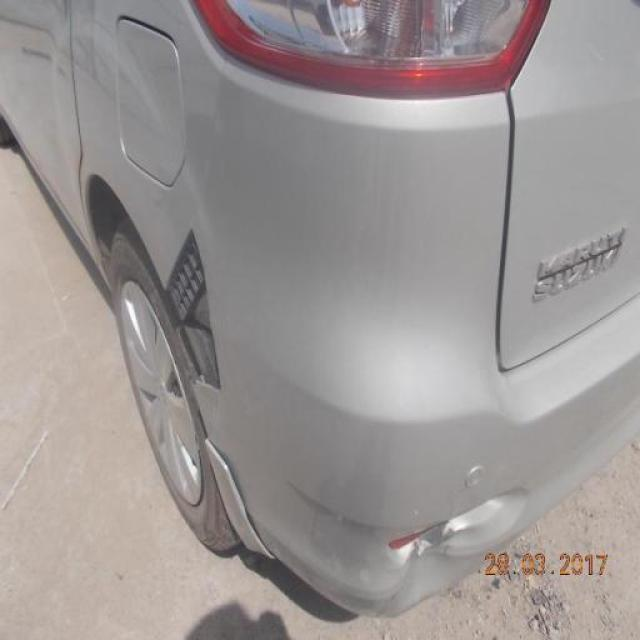dent: (380, 517, 465, 617)
tear: (164, 231, 222, 394)
